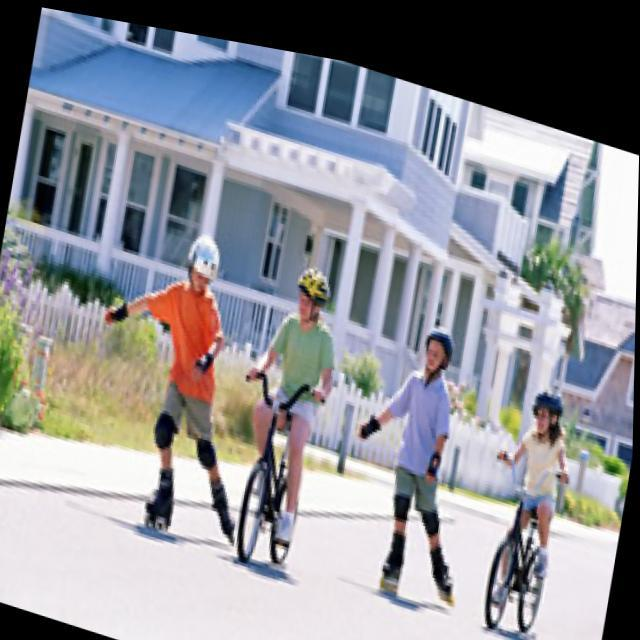Helmet: (180, 227, 226, 304), (413, 319, 459, 386), (292, 260, 332, 328), (526, 388, 570, 448)
